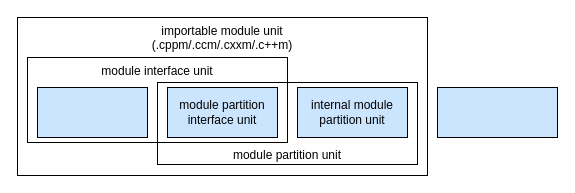
This 575x193 diagram has some shape labels left out. Here are the shapes that lost their labels. From the top down, the box of each, then its label:
(36, 86, 148, 138): primary module interface unit
(436, 86, 558, 138): module implementation unit (.cpp/.cc/.cxx/.c++)
